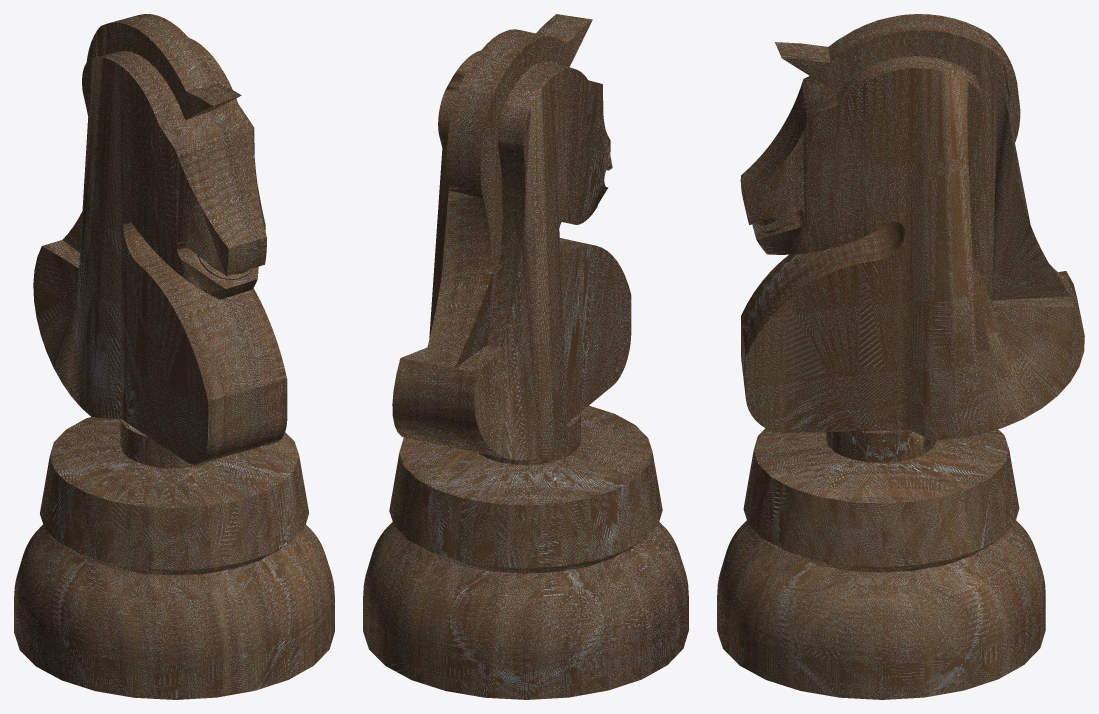
File: Horse Black.fbx
3 renders of one model, left to right at view 1: azimuth 30°, elevation 25°; view 2: azimuth 150°, elevation 25°; view 3: azimuth 270°, elevation 25°, orthographic. The views are drawn at different scales.
Visible parts, largest first — view 1: Horse_Black1; view 2: Horse_Black1; view 3: Horse_Black1.
Part boxes in pixels (x1,y1,x2,y2): Horse_Black1: [14, 14, 334, 699]; Horse_Black1: [363, 14, 688, 699]; Horse_Black1: [717, 14, 1084, 699].
Bounding box in the file's own units: 0.0483 × 0.0985 × 0.054.
